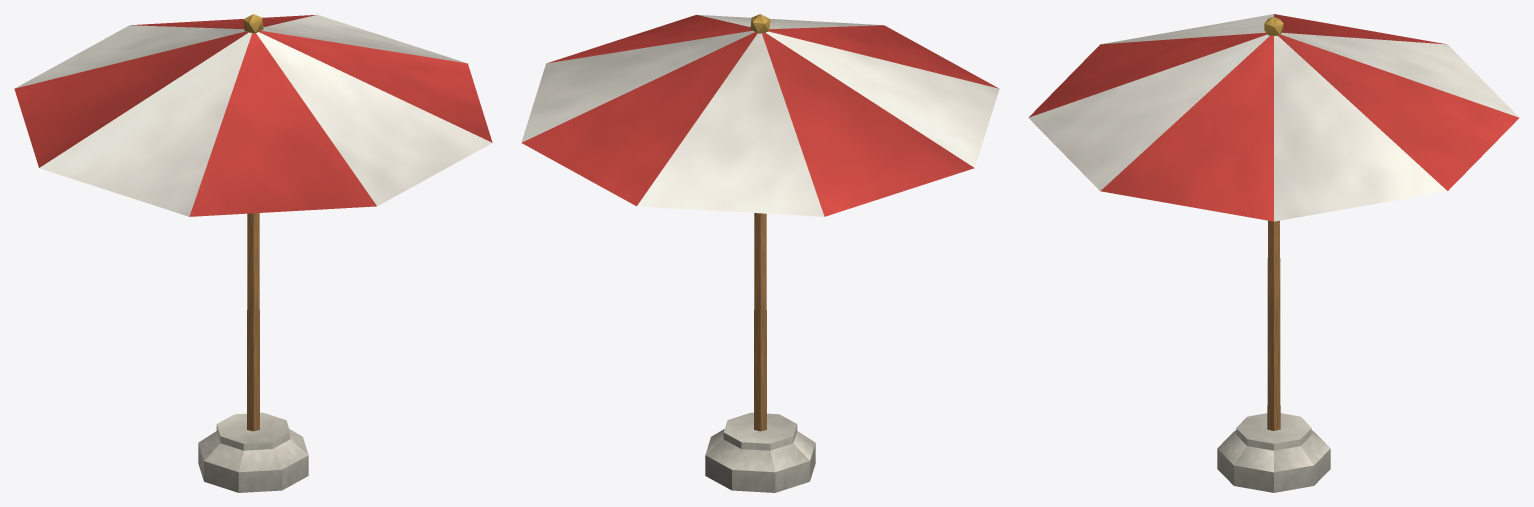
File: prop_parasol_01.glb
The picture shows the model from 3 angles, left to right: view 1: azimuth 30°, elevation 25°; view 2: azimuth 150°, elevation 25°; view 3: azimuth 270°, elevation 25°; orthographic projection.
Parts seen in each view (by area): view 1: prop_parasol_01; view 2: prop_parasol_01; view 3: prop_parasol_01.
Boxes of the visible parts, x1=… form: prop_parasol_01: x1=14, y1=14, x2=492, y2=492; prop_parasol_01: x1=521, y1=14, x2=999, y2=492; prop_parasol_01: x1=1028, y1=14, x2=1519, y2=492.
Bounding box in the file's own units: 2.6 × 2.64 × 2.6.
Materials: 1 (1 with a texture image).
